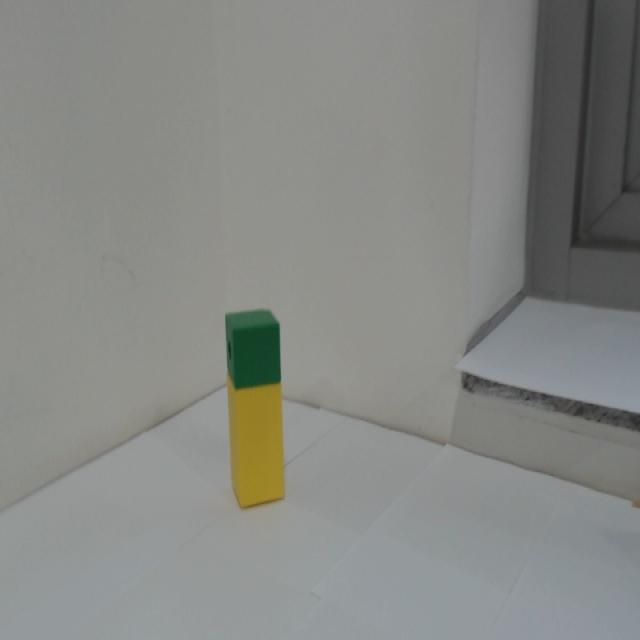cube: (225, 306, 282, 391)
